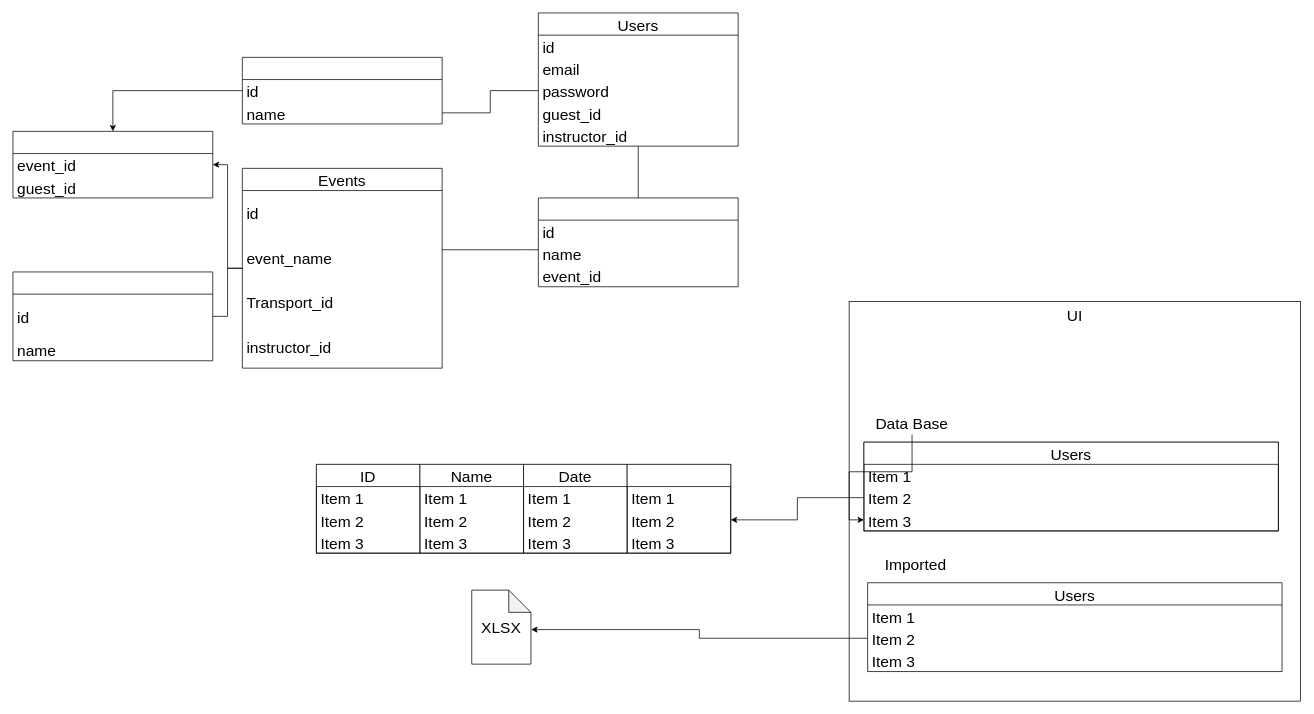
The diagram is 1314 pixels wide and 714 high, and some of its shapes have lost their labels. The box of each missing label's shape, as (x1, y1, x2, y2) in pixels:
guest: (242, 57, 442, 124)
Instructor: (538, 197, 738, 287)
Other: (626, 464, 731, 553)
Transport: (12, 271, 213, 361)
Связь_событий и гостей: (12, 131, 213, 198)
